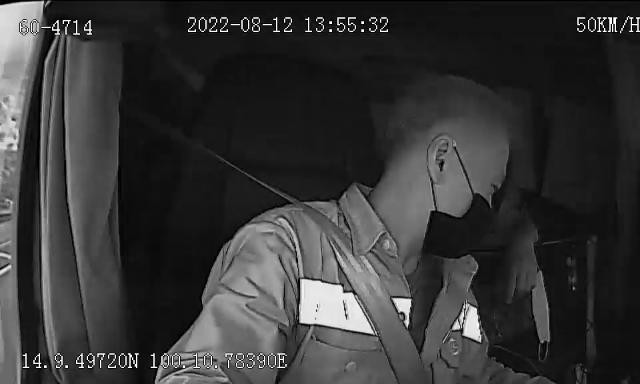Seatbelt: (271, 188, 429, 384)
